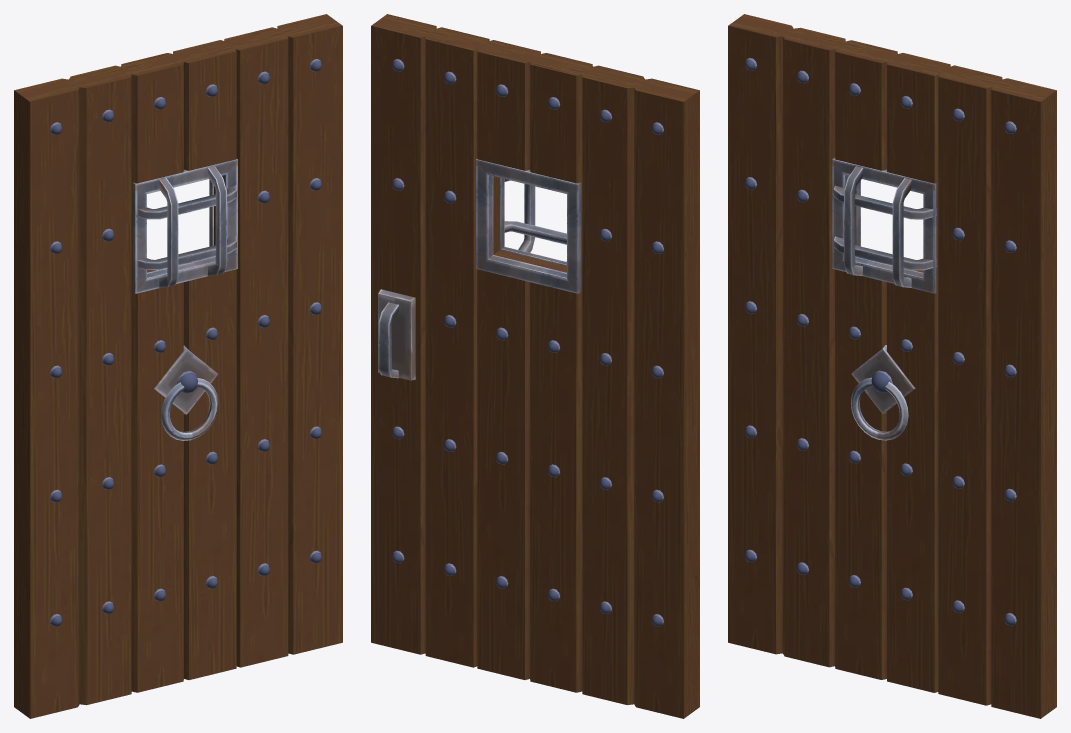
Rendered from Door_2_Flat.gltf.
3 renders of one model, left to right at view 1: azimuth 30°, elevation 25°; view 2: azimuth 150°, elevation 25°; view 3: azimuth 330°, elevation 25°, orthographic.
Visible parts, largest first — view 1: Door_2_Flat; view 2: Door_2_Flat; view 3: Door_2_Flat.
Boxes of the visible parts, x1=… form: Door_2_Flat: x1=14, y1=14, x2=342, y2=718; Door_2_Flat: x1=371, y1=14, x2=699, y2=718; Door_2_Flat: x1=728, y1=14, x2=1056, y2=718.
Size of the model in its own units: 1.11 by 2.1 by 0.2609.
2 materials, 2 textured.
